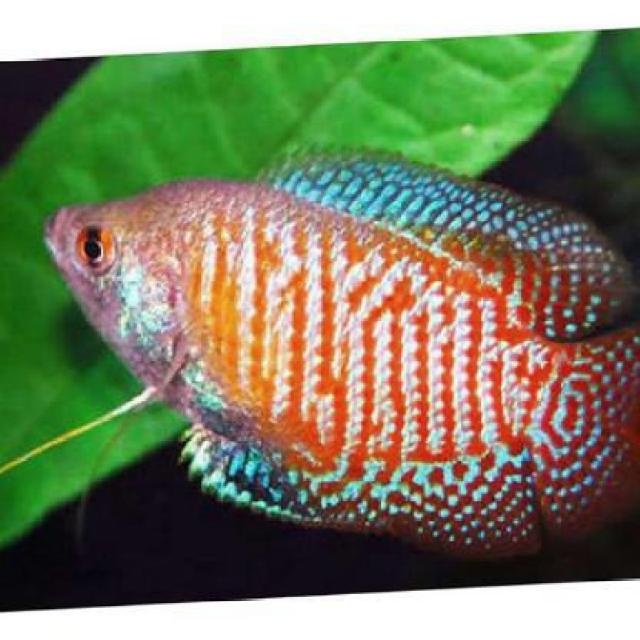Gourami: (41, 143, 638, 540)
